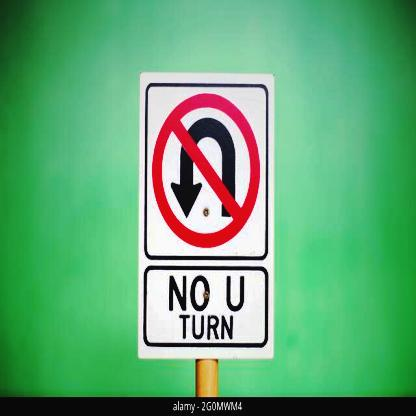No U-turn: (150, 89, 266, 260)
